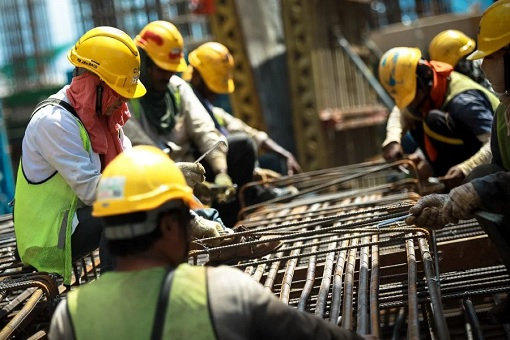Safety Helmet: (81, 133, 204, 278), (60, 20, 148, 137), (370, 39, 440, 121), (136, 15, 189, 104), (187, 32, 241, 110), (422, 19, 479, 84), (470, 3, 510, 95)
